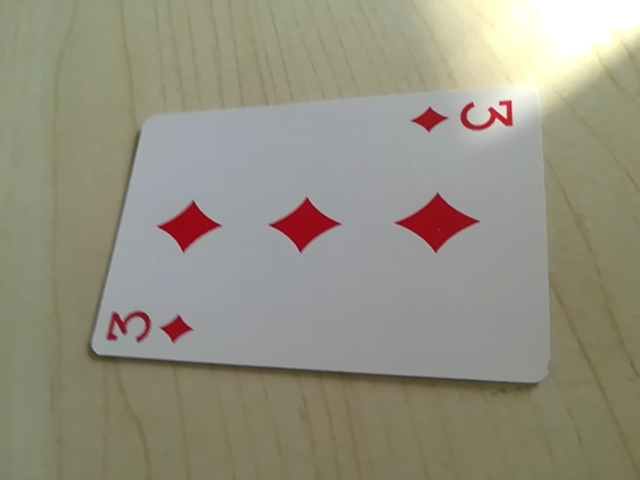fk 3: (98, 299, 199, 355), (415, 93, 521, 142)
